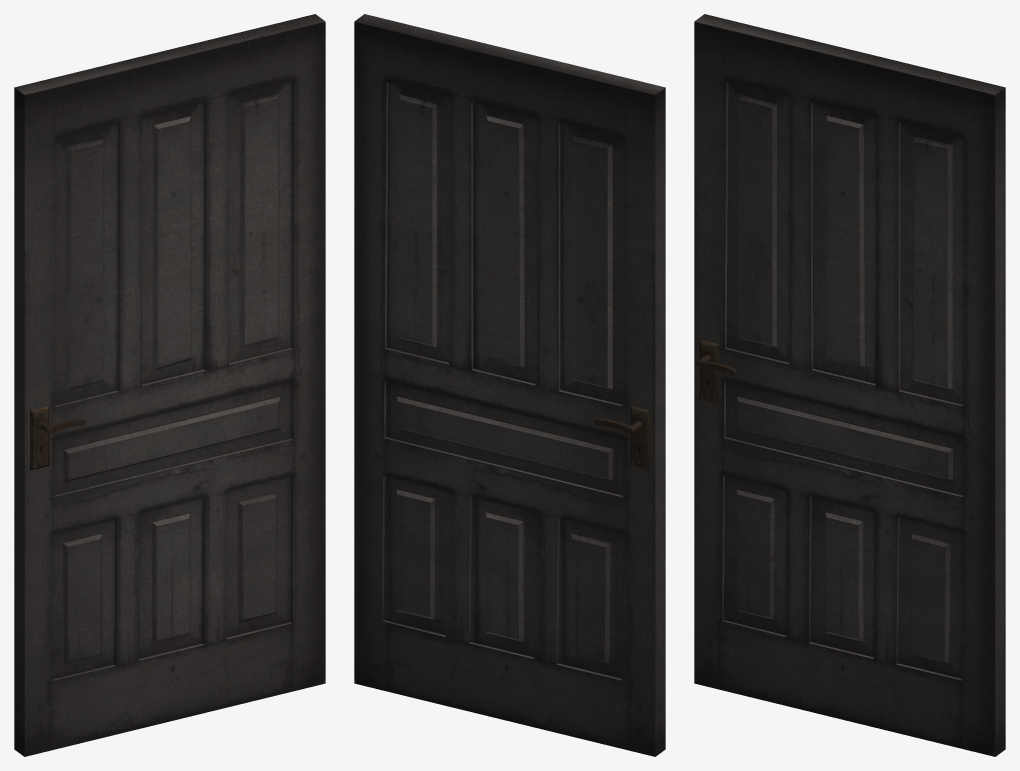
Rendered from door_1.fbx.
3 views of the same model, side by side, from view 1: azimuth 30°, elevation 25°; view 2: azimuth 150°, elevation 25°; view 3: azimuth 330°, elevation 25° (orthographic).
Parts seen in each view (by area): view 1: door_1; view 2: door_1; view 3: door_1.
Boxes of the visible parts, left/top/right/bottom form: door_1: left=14, top=14, right=325, bottom=756; door_1: left=354, top=14, right=665, bottom=756; door_1: left=694, top=14, right=1005, bottom=756.
Size of the model in its own units: 1 by 0.178 by 2.1.
